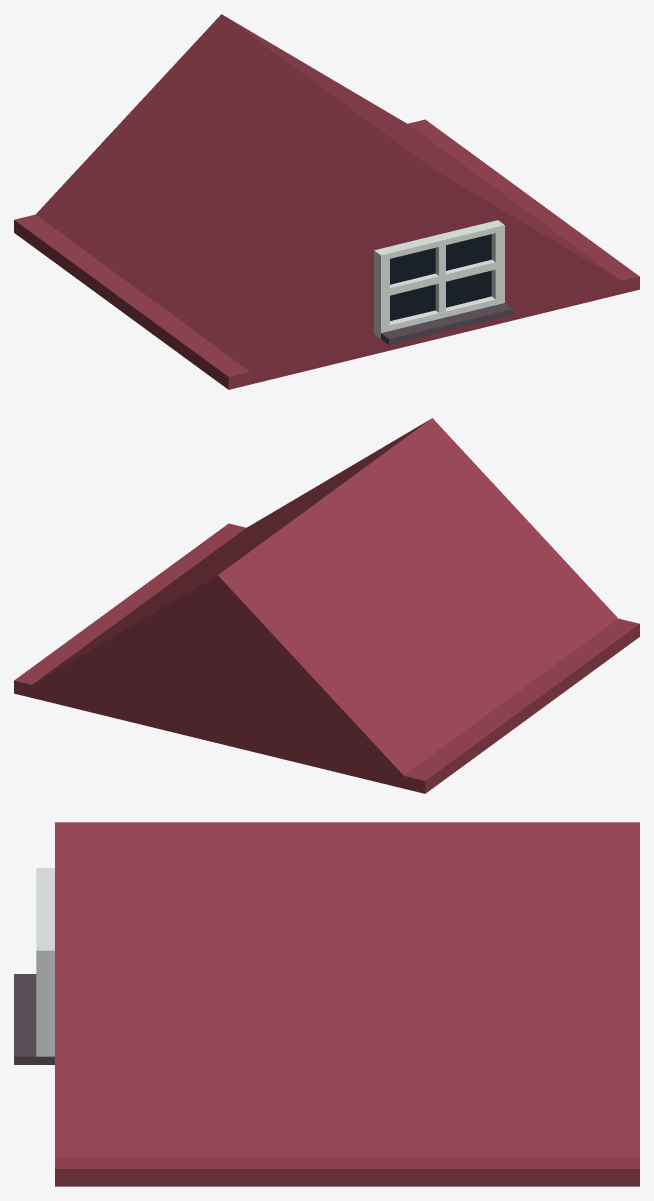
File: house_roof.fbx
The picture shows the model from 3 angles, top to bottom: view 1: azimuth 30°, elevation 25°; view 2: azimuth 150°, elevation 25°; view 3: azimuth 270°, elevation 25°; orthographic projection. The views are drawn at different scales.
Visible parts, largest first — view 1: Cube.001; view 2: Cube.001; view 3: Cube.001.
Part boxes in pixels (<box>): Cube.001: <box>14,14,639,389</box>; Cube.001: <box>14,418,639,793</box>; Cube.001: <box>14,822,639,1186</box>.
Bounding box in the file's own units: 6636 × 2592 × 6420.
